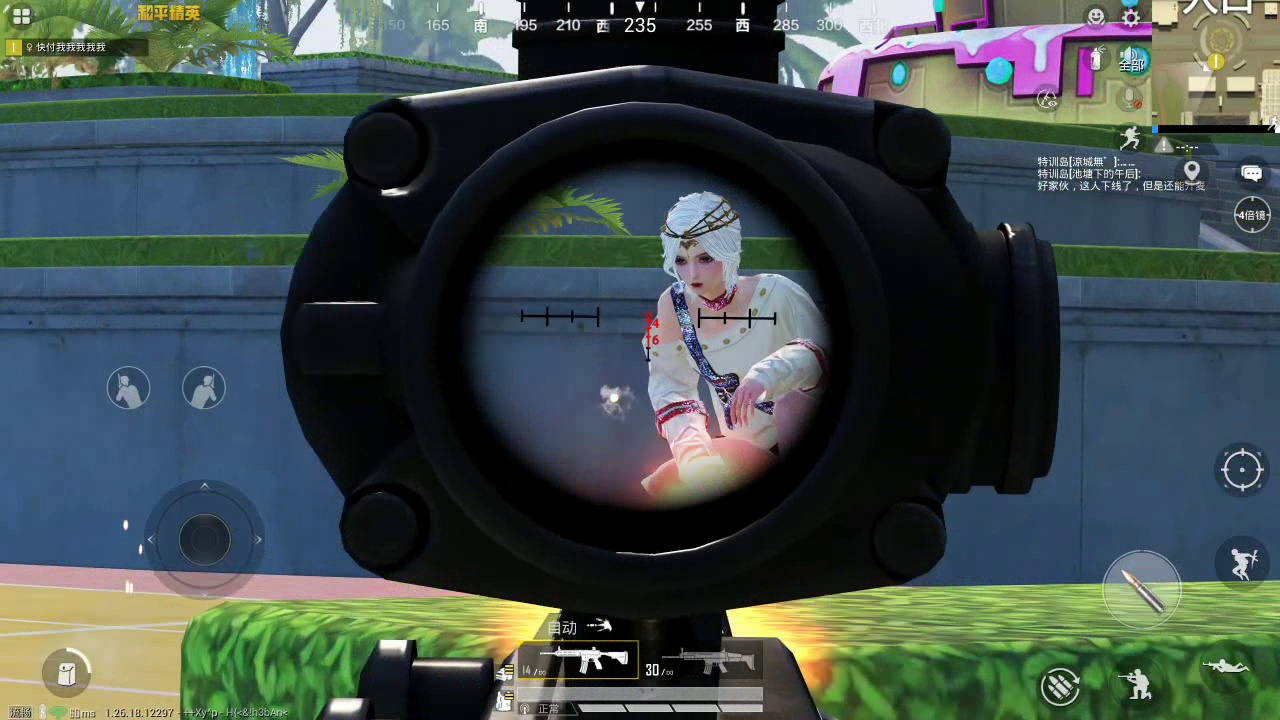enemy: (638, 187, 838, 492)
